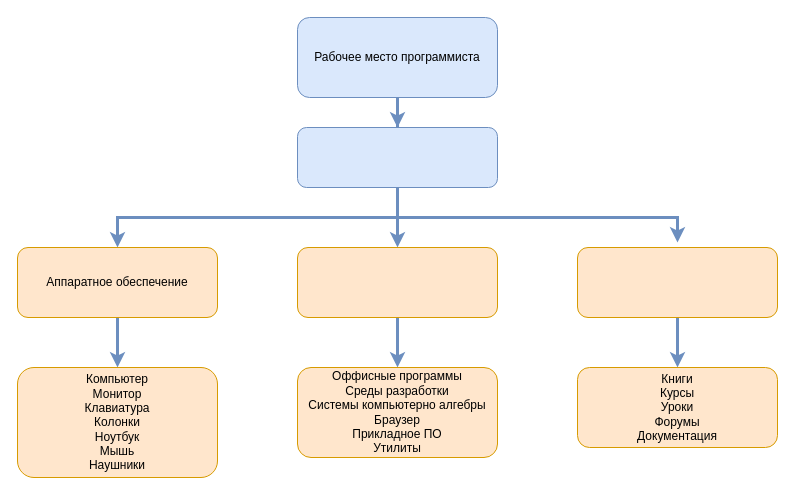
Image size: 795x495. Some labels were removed from this diagram. The centre of each missing label's shape, as x and y in pixels:
Информационные обеспечение: (677,282)
Компьютерное кресло Стол: (397,157)
Програмное обеспечение: (397,282)
